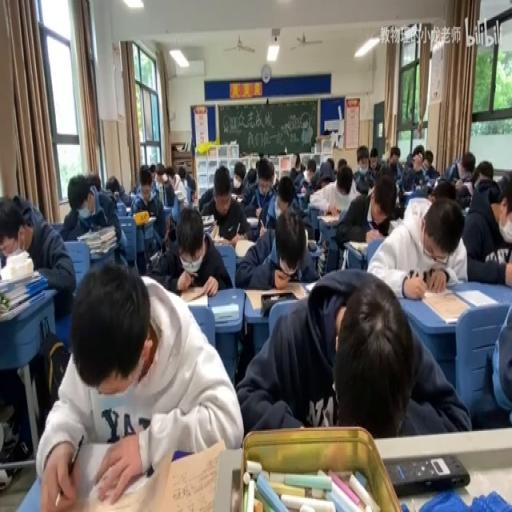calculator: (244, 283, 306, 311), (421, 292, 469, 322), (0, 266, 39, 294), (180, 283, 210, 302), (210, 302, 238, 322), (234, 236, 256, 258), (134, 213, 157, 226), (90, 246, 115, 257), (347, 239, 368, 252), (318, 213, 340, 225), (202, 214, 214, 234), (387, 219, 402, 235), (212, 233, 230, 246), (302, 278, 318, 292), (156, 183, 163, 205), (149, 248, 159, 263), (246, 214, 259, 224), (230, 191, 241, 199), (121, 206, 130, 215), (403, 189, 414, 196), (300, 186, 307, 195)
paper: (40, 260, 240, 512), (237, 268, 467, 436), (1, 194, 75, 346), (370, 194, 468, 298), (149, 202, 230, 294), (235, 199, 315, 286), (330, 168, 388, 270), (61, 174, 123, 268), (461, 170, 512, 284), (469, 286, 510, 427), (130, 164, 168, 256), (290, 160, 326, 234), (198, 161, 239, 213), (440, 149, 475, 188), (399, 146, 425, 192), (351, 145, 374, 193), (237, 160, 259, 206), (169, 164, 187, 204), (427, 179, 456, 202), (471, 160, 493, 188), (420, 147, 438, 179), (376, 164, 398, 186), (494, 171, 510, 199), (163, 216, 174, 250), (183, 172, 195, 203), (387, 145, 400, 169), (154, 162, 166, 188), (412, 181, 430, 196), (88, 172, 102, 191), (106, 176, 118, 196), (337, 156, 347, 174), (317, 175, 330, 188), (253, 158, 260, 178), (306, 161, 315, 176), (293, 154, 301, 170), (326, 156, 334, 170), (370, 156, 378, 170), (149, 162, 156, 176)
person: (386, 452, 470, 496), (307, 239, 318, 252)
